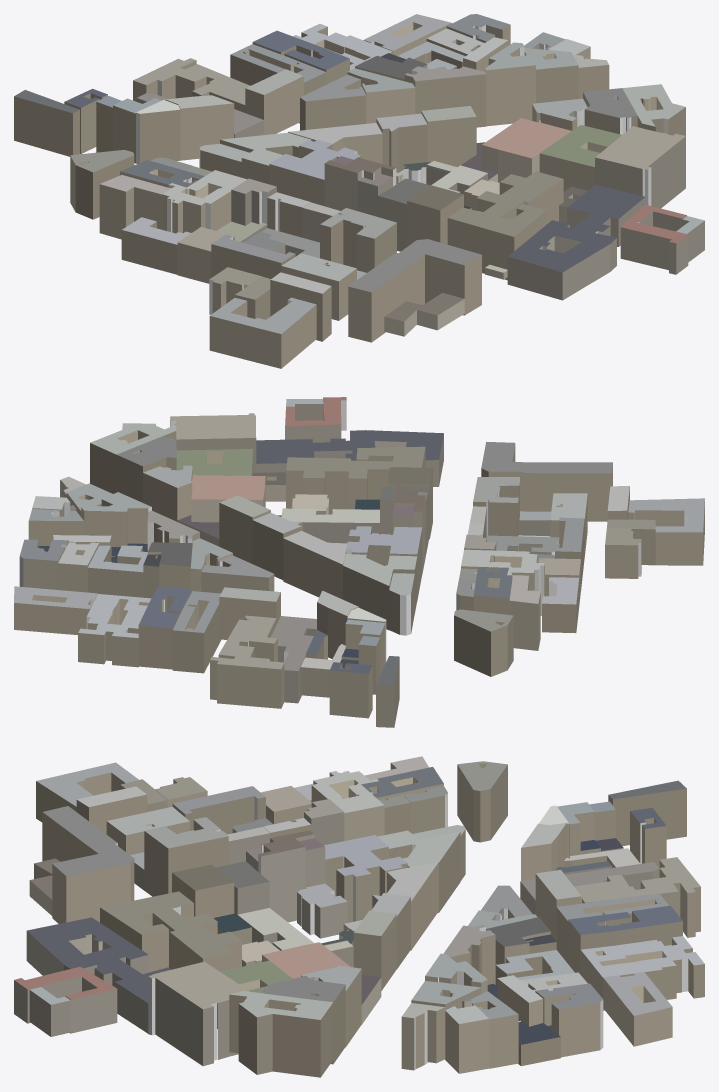
3 views of the same model, one above another, from view 1: azimuth 30°, elevation 25°; view 2: azimuth 150°, elevation 25°; view 3: azimuth 270°, elevation 25° (orthographic). The views are drawn at different scales.
Visible parts, largest first — view 1: tuile; view 2: tuile; view 3: tuile.
Part boxes in pixels (left/top/right/bottom): tuile: left=14, top=14, right=704, bottom=368; tuile: left=14, top=397, right=704, bottom=727; tuile: left=14, top=756, right=704, bottom=1077.
Size of the model in its own units: 281 by 37.98 by 284.
